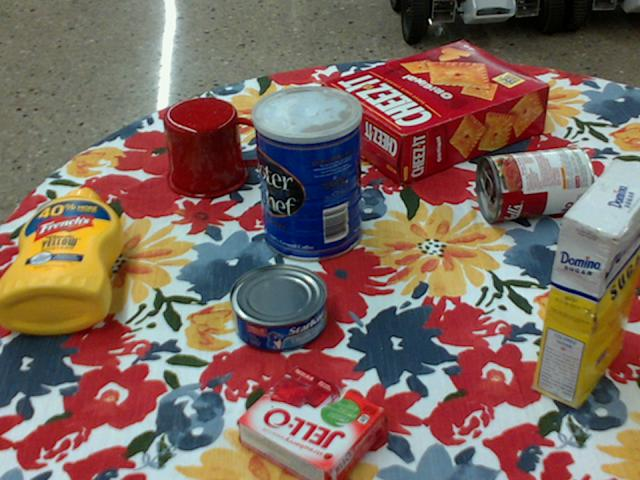cracker_box: (323, 43, 550, 186)
gelatin_box: (239, 368, 389, 479)
master_chef_can: (252, 84, 362, 262)
mug: (163, 97, 269, 198)
mustard_bottle: (0, 188, 123, 334)
sugar_box: (534, 158, 639, 409)
tomato_soup_can: (476, 145, 595, 222)
tuna_fish_can: (229, 265, 327, 353)
